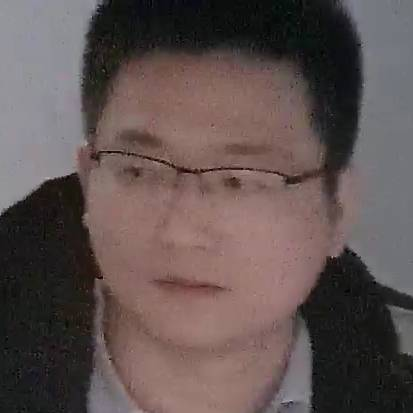gg: (70, 25, 385, 340)
